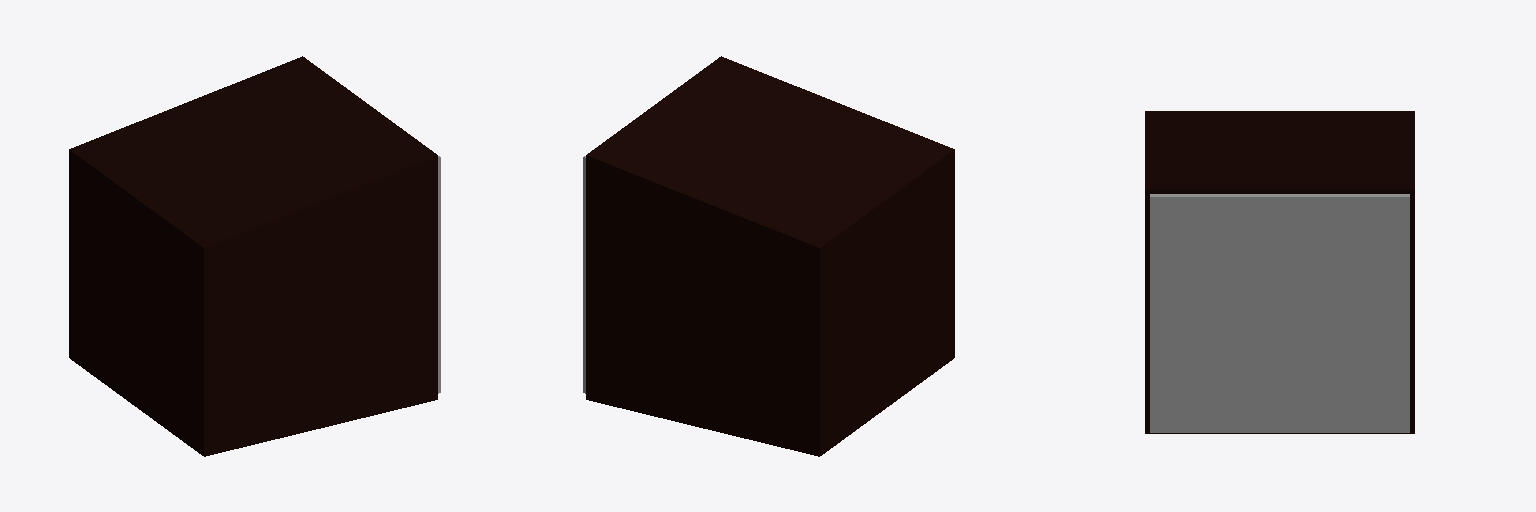
Rendered from clock.obj.
The picture shows the model from 3 angles: view 1: azimuth 30°, elevation 25°; view 2: azimuth 150°, elevation 25°; view 3: azimuth 270°, elevation 25°; orthographic projection.
Parts seen in each view (by area): view 1: Cube.001, Cube; view 2: Cube.001, Cube; view 3: Cube, Cube.001.
Boxes of the visible parts, box(x1,y1,x2,y2) form: Cube.001: box(69, 56, 437, 456); Cube: box(315, 65, 440, 393); Cube.001: box(586, 56, 954, 456); Cube: box(583, 65, 708, 393); Cube: box(1150, 194, 1409, 432); Cube.001: box(1145, 111, 1414, 433).
Bounding box in the file's own units: 2.04 × 2 × 2.